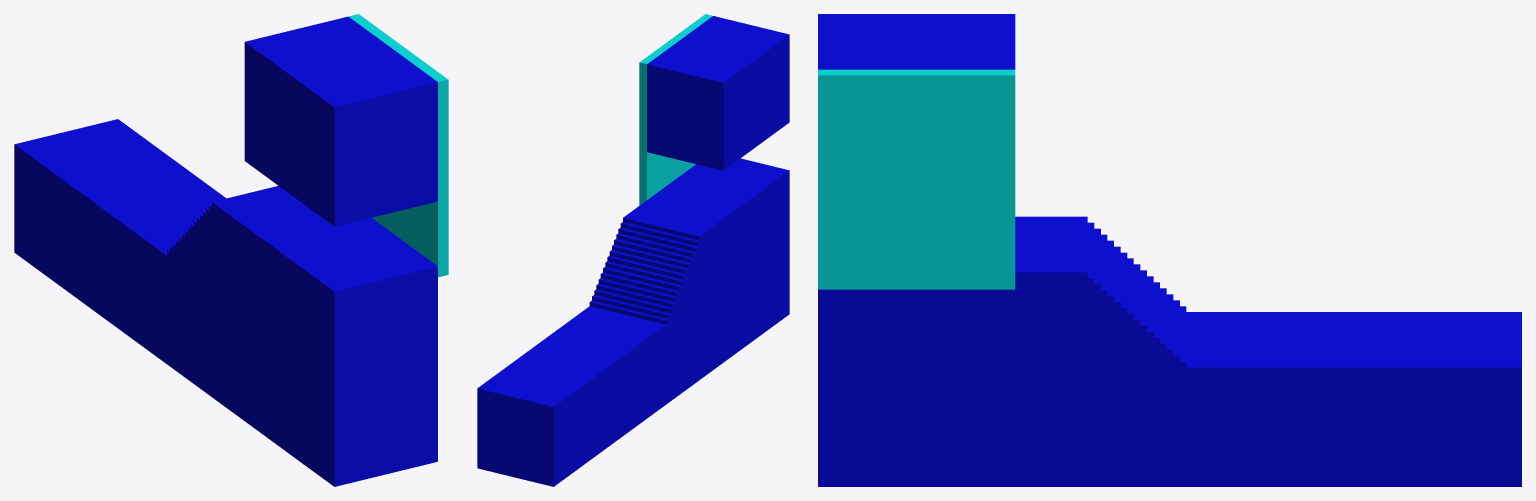
Rendered from Level_3_scene7_colored.fbx.
The picture shows the model from 3 angles, left to right: view 1: azimuth 30°, elevation 25°; view 2: azimuth 150°, elevation 25°; view 3: azimuth 270°, elevation 25°; orthographic projection. The views are drawn at different scales.
Parts seen in each view (by area): view 1: area1.006, block, block.002; view 2: area1.006, block, block.002; view 3: area1.006, block.002, block.
Boxes of the visible parts, x1,y1,x2,y2 form: area1.006: (14, 119, 437, 486); block: (244, 16, 437, 226); block.002: (348, 14, 448, 277); area1.006: (477, 158, 789, 486); block: (647, 16, 789, 170); block.002: (639, 14, 712, 205); area1.006: (818, 216, 1521, 486); block.002: (818, 69, 1015, 289); block: (818, 14, 1015, 69).
Size of the model in its own units: 1100 by 3500 by 5350.
